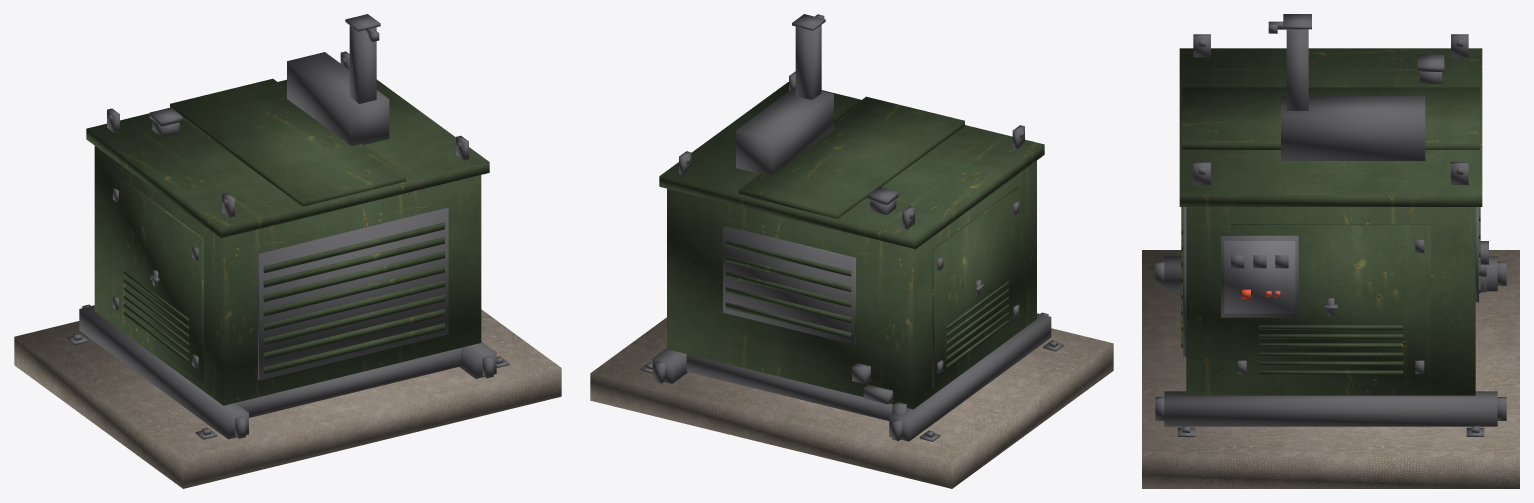
Rendered from generator_industrial.glb.
3 views of the same model, side by side, from view 1: azimuth 30°, elevation 25°; view 2: azimuth 150°, elevation 25°; view 3: azimuth 270°, elevation 25° (orthographic). The views are drawn at different scales.
Visible parts, largest first — view 1: GeneratorIndustrial; view 2: GeneratorIndustrial; view 3: GeneratorIndustrial.
Part boxes in pixels (x1,y1,x2,y2): GeneratorIndustrial: [14, 14, 561, 488]; GeneratorIndustrial: [590, 14, 1113, 488]; GeneratorIndustrial: [1142, 14, 1519, 488].
Size of the model in its own units: 2.2 by 1.98 by 1.7.
5 materials, 2 textured.
